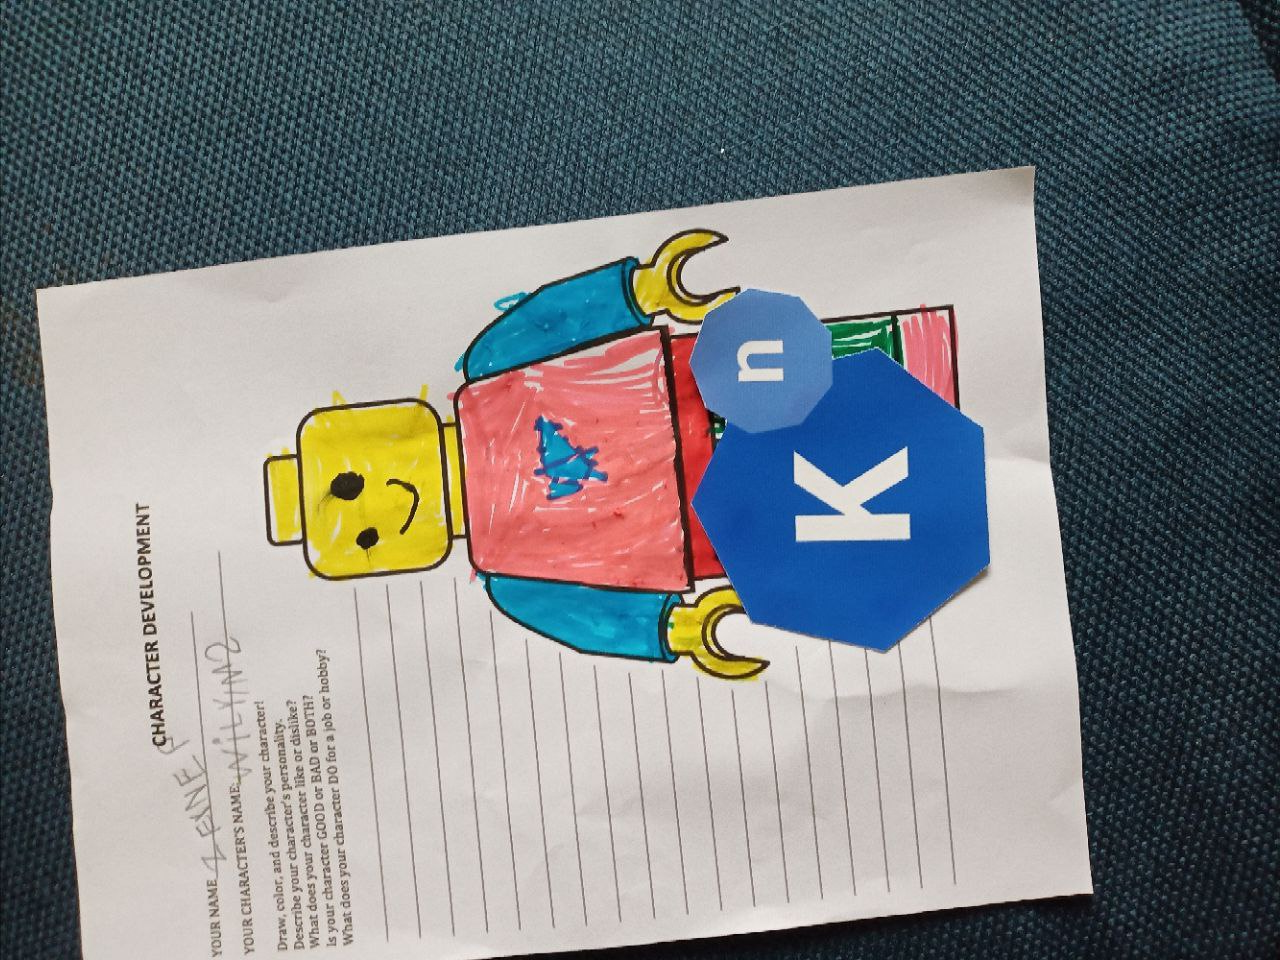knative: (689, 285, 991, 653)
